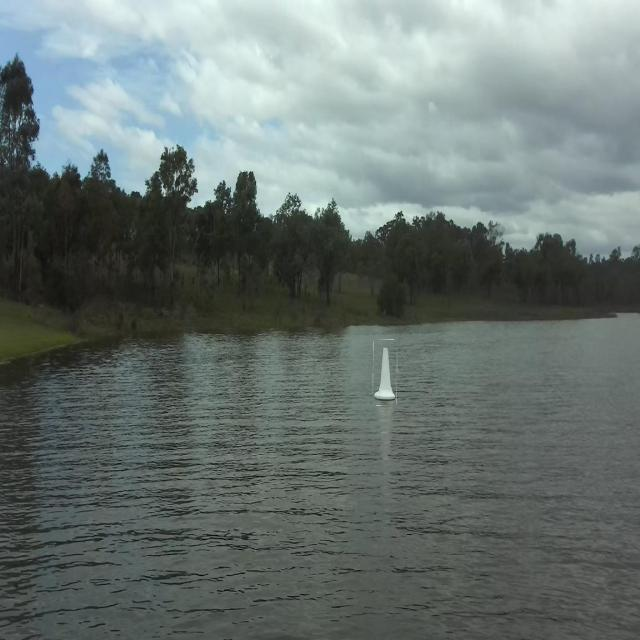White_Buoy: (375, 333, 397, 413)
